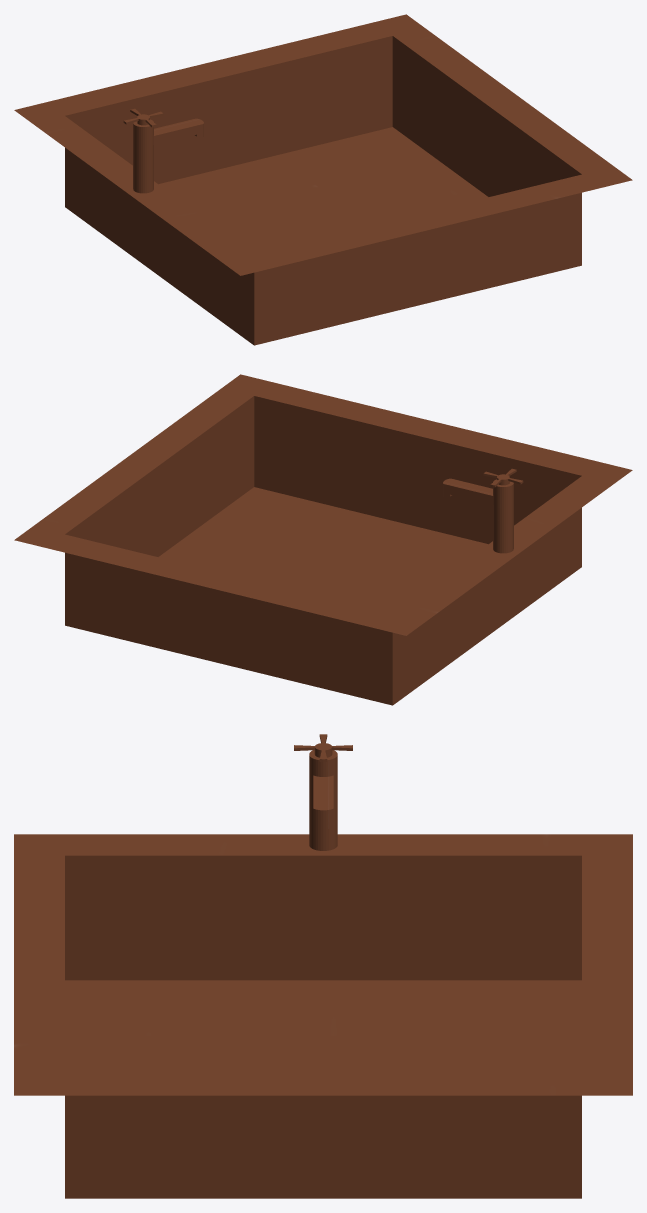
File: utility_sink_copper.glb
3 views of the same model, one above another, from view 1: azimuth 30°, elevation 25°; view 2: azimuth 150°, elevation 25°; view 3: azimuth 270°, elevation 25° (orthographic). The views are drawn at different scales.
Parts seen in each view (by area): view 1: Object_6, Object_4; view 2: Object_6, Object_4; view 3: Object_6, Object_4.
Boxes of the visible parts, bbox=[...] form: Object_6: bbox=[14, 14, 632, 345]; Object_4: bbox=[123, 108, 203, 193]; Object_6: bbox=[14, 374, 632, 705]; Object_4: bbox=[443, 468, 523, 553]; Object_6: bbox=[14, 834, 632, 1198]; Object_4: bbox=[294, 734, 352, 850].
Size of the model in its own units: 0.5539 by 0.2186 by 0.5504.
Materials: 1 (1 with a texture image).
